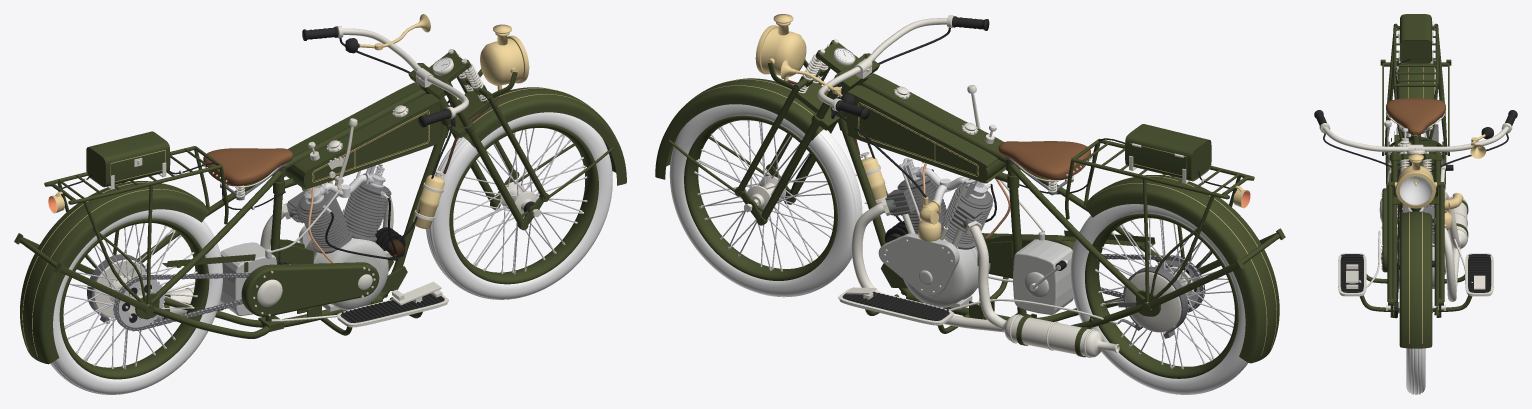
The model's file is bike_vintage_vtwin.glb.
3 renders of one model, left to right at view 1: azimuth 30°, elevation 25°; view 2: azimuth 150°, elevation 25°; view 3: azimuth 270°, elevation 25°, orthographic. The views are drawn at different scales.
Visible parts, largest first — view 1: frame_body__rear_mudguard, wheels__front_wheel__tyre, frame_body__fuel_tank, frame_body__frame__tubes, wheels__rear_wheel__tyre, transmission__primary_chaincase, powertrain__engine__cylinders, wheels__front_wheel__rim, frame_body__front_mudguard, wheels__rear_wheel__rim, frame_body__toolbox, frame_body__carrier (+30 smaller); view 2: frame_body__rear_mudguard, wheels__front_wheel__tyre, frame_body__fuel_tank, frame_body__frame__tubes, wheels__rear_wheel__tyre, wheels__front_wheel__rim, frame_body__front_mudguard, wheels__rear_wheel__rim, transmission__gearbox__shell, frame_body__toolbox, wheels__front_wheel__spokes, frame_body__carrier (+31 smaller); view 3: frame_body__front_mudguard, frame_body__carrier, chassis__front_fork__rigid_legs, frame_body__toolbox, frame_body__seat, chassis__front_fork__sprung_legs, chassis__footboards__mats, frame_body__rear_mudguard, powertrain__exhaust__pipes, chassis__handlebar__bar, wheels__front_wheel__tyre, chassis__footboards (+21 smaller).
Boxes of the visible parts, left/top/right/bottom form: frame_body__rear_mudguard: left=20, top=181, right=208, bottom=364; wheels__front_wheel__tyre: left=426, top=112, right=612, bottom=299; frame_body__fuel_tank: left=286, top=82, right=441, bottom=189; frame_body__frame__tubes: left=136, top=88, right=445, bottom=338; wheels__rear_wheel__tyre: left=50, top=209, right=222, bottom=394; transmission__primary_chaincase: left=241, top=262, right=379, bottom=316; powertrain__engine__cylinders: left=286, top=179, right=391, bottom=253; wheels__front_wheel__rim: left=449, top=123, right=598, bottom=284; frame_body__front_mudguard: left=463, top=87, right=626, bottom=185; wheels__rear_wheel__rim: left=59, top=218, right=209, bottom=379; frame_body__toolbox: left=86, top=131, right=170, bottom=187; frame_body__carrier: left=44, top=146, right=228, bottom=305; frame_body__rear_mudguard: left=1085, top=175, right=1279, bottom=363; wheels__front_wheel__tyre: left=669, top=104, right=862, bottom=297; frame_body__fuel_tank: left=846, top=73, right=1005, bottom=183; frame_body__frame__tubes: left=842, top=79, right=1160, bottom=327; wheels__rear_wheel__tyre: left=1070, top=204, right=1248, bottom=394; wheels__front_wheel__rim: left=684, top=115, right=837, bottom=280; frame_body__front_mudguard: left=655, top=78, right=823, bottom=179; wheels__rear_wheel__rim: left=1085, top=213, right=1238, bottom=378; transmission__gearbox__shell: left=1013, top=231, right=1073, bottom=314; frame_body__toolbox: left=1125, top=124, right=1211, bottom=181; wheels__front_wheel__spokes: left=696, top=122, right=833, bottom=268; frame_body__carrier: left=1065, top=138, right=1254, bottom=302; frame_body__front_mudguard: left=1399, top=211, right=1432, bottom=348; frame_body__carrier: left=1384, top=23, right=1447, bottom=154; chassis__front_fork__rigid_legs: left=1391, top=151, right=1440, bottom=317; frame_body__toolbox: left=1400, top=14, right=1431, bottom=64; frame_body__seat: left=1386, top=98, right=1445, bottom=135; chassis__front_fork__sprung_legs: left=1387, top=182, right=1444, bottom=305; chassis__footboards__mats: left=1340, top=254, right=1491, bottom=292; frame_body__rear_mudguard: left=1397, top=57, right=1434, bottom=138; powertrain__exhaust__pipes: left=1444, top=193, right=1460, bottom=301; chassis__handlebar__bar: left=1322, top=126, right=1509, bottom=151; wheels__front_wheel__tyre: left=1406, top=348, right=1425, bottom=394; chassis__footboards: left=1338, top=253, right=1493, bottom=296.
Bounding box in the file's own units: 230 × 101 × 83.17.
